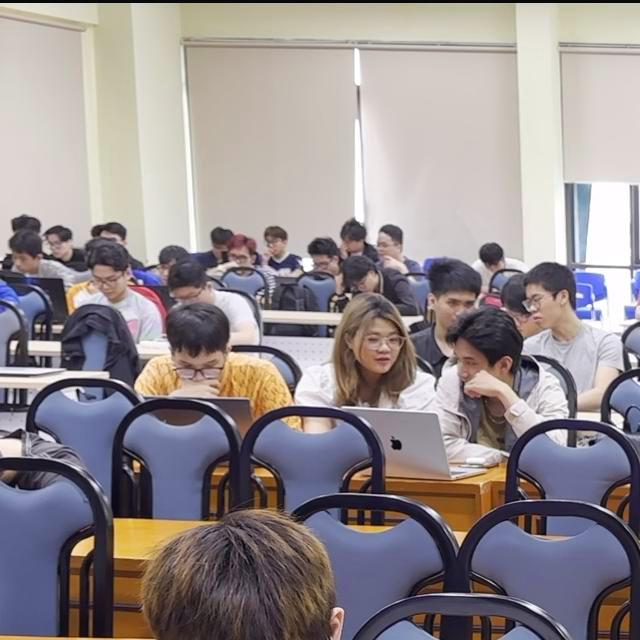Looking away: (454, 337, 499, 400), (171, 348, 227, 393), (524, 283, 563, 333), (90, 263, 127, 301)
Looking forward: (356, 320, 403, 375)
